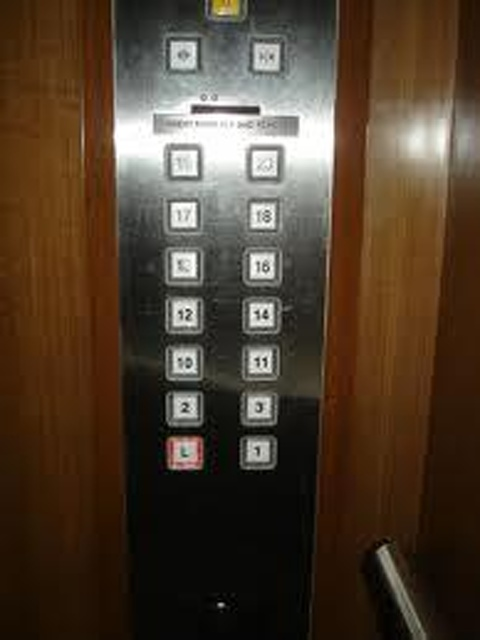1: (238, 434, 279, 472)
10: (164, 342, 204, 381)
11: (240, 343, 282, 381)
12: (163, 294, 205, 335)
14: (241, 296, 283, 335)
16: (239, 246, 283, 288)
17: (161, 196, 203, 235)
18: (244, 195, 283, 234)
2: (162, 387, 206, 428)
3: (237, 390, 280, 428)
L: (163, 434, 204, 473)
blur: (244, 142, 285, 185), (162, 246, 203, 288), (163, 143, 204, 181)
close: (246, 33, 286, 75)
open: (162, 33, 202, 74)
